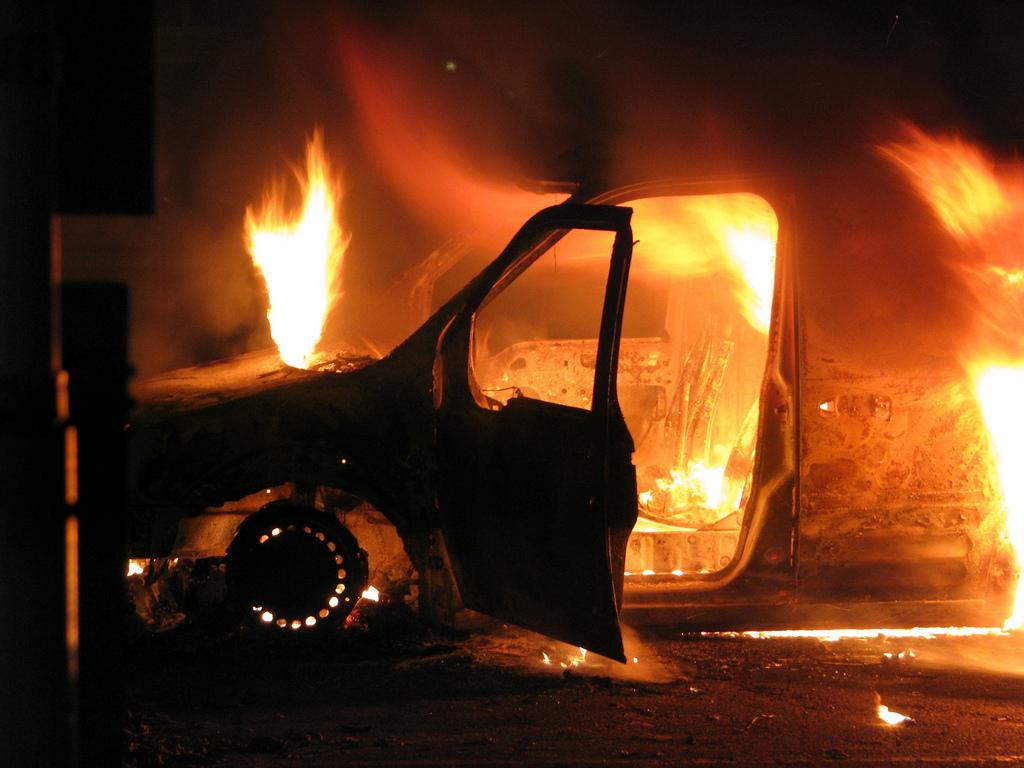fire: (970, 362, 1024, 618), (254, 222, 344, 362), (664, 452, 756, 530), (724, 220, 786, 320)
